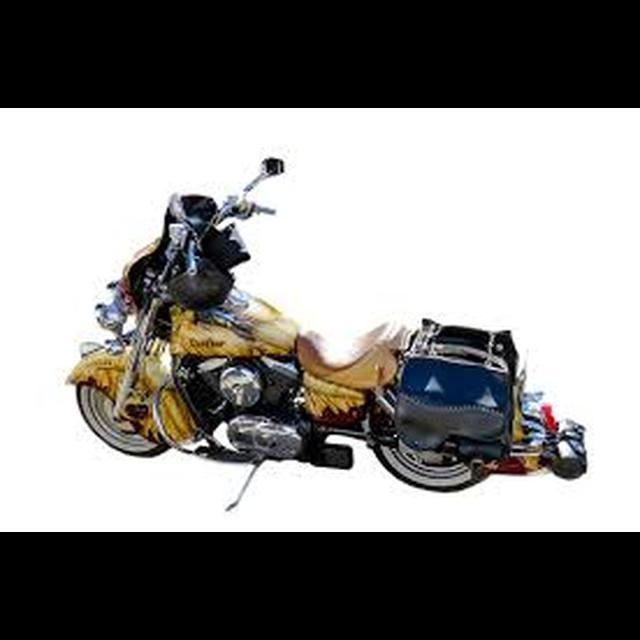motorcycle: (59, 157, 593, 516)
